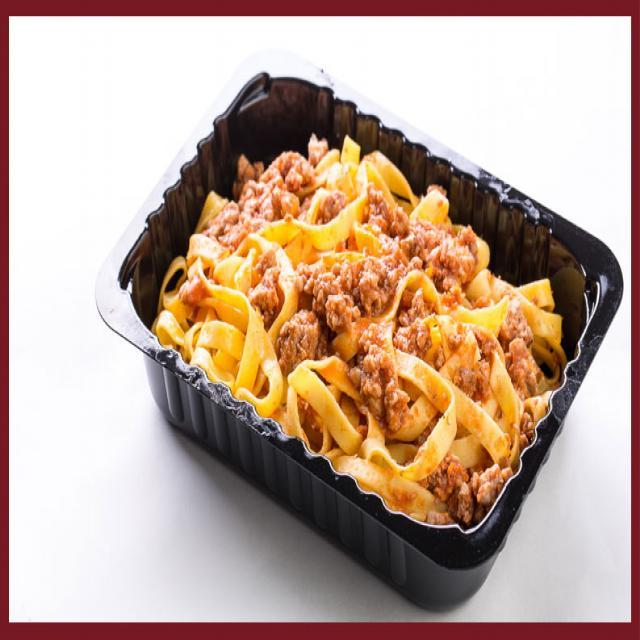Pasta al ragu: (123, 73, 597, 543)
